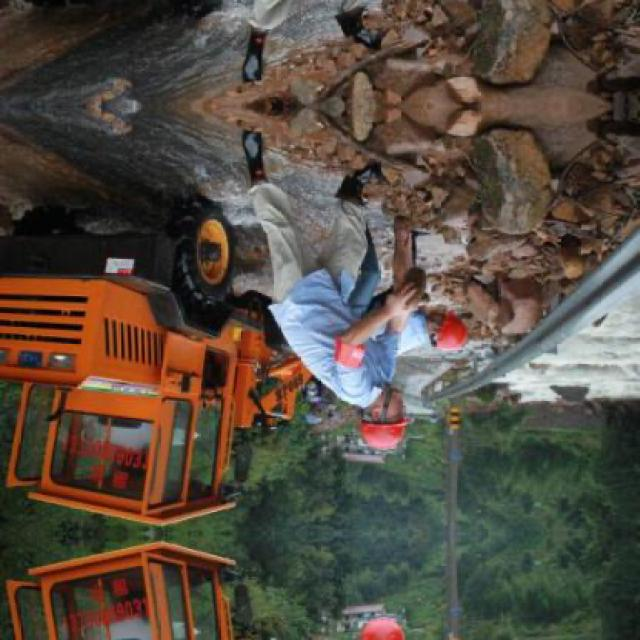con casco: (337, 384, 421, 462)
